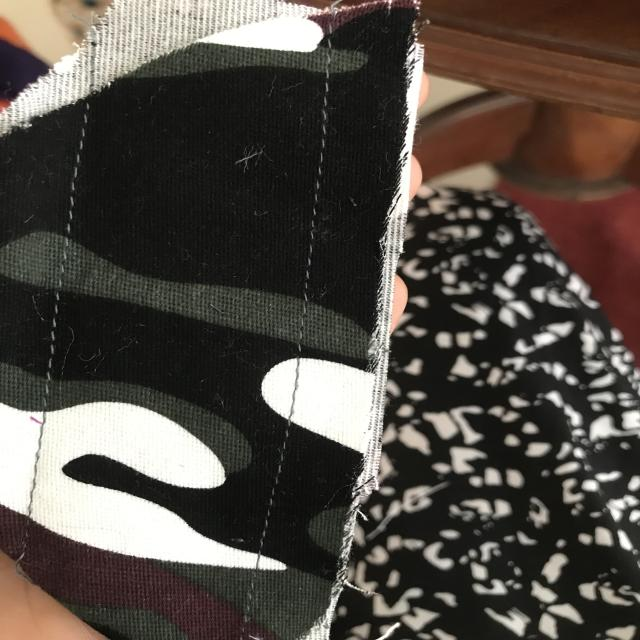good: (45, 231, 86, 332)
